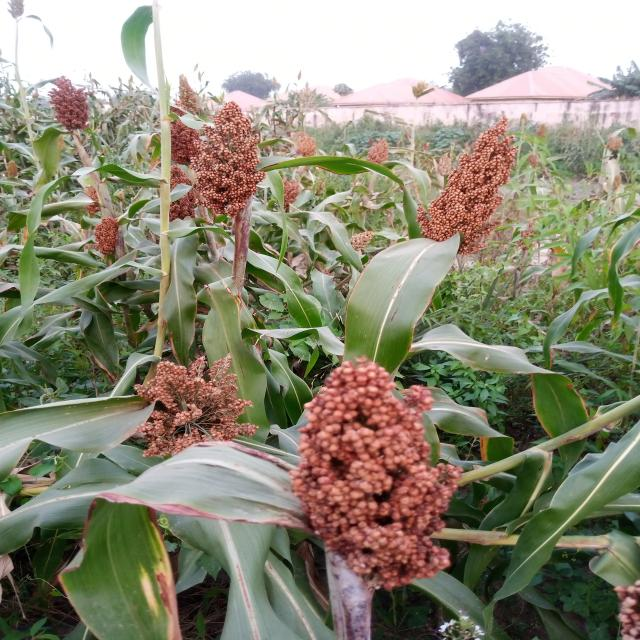RipeSorghum: (281, 350, 513, 591)
